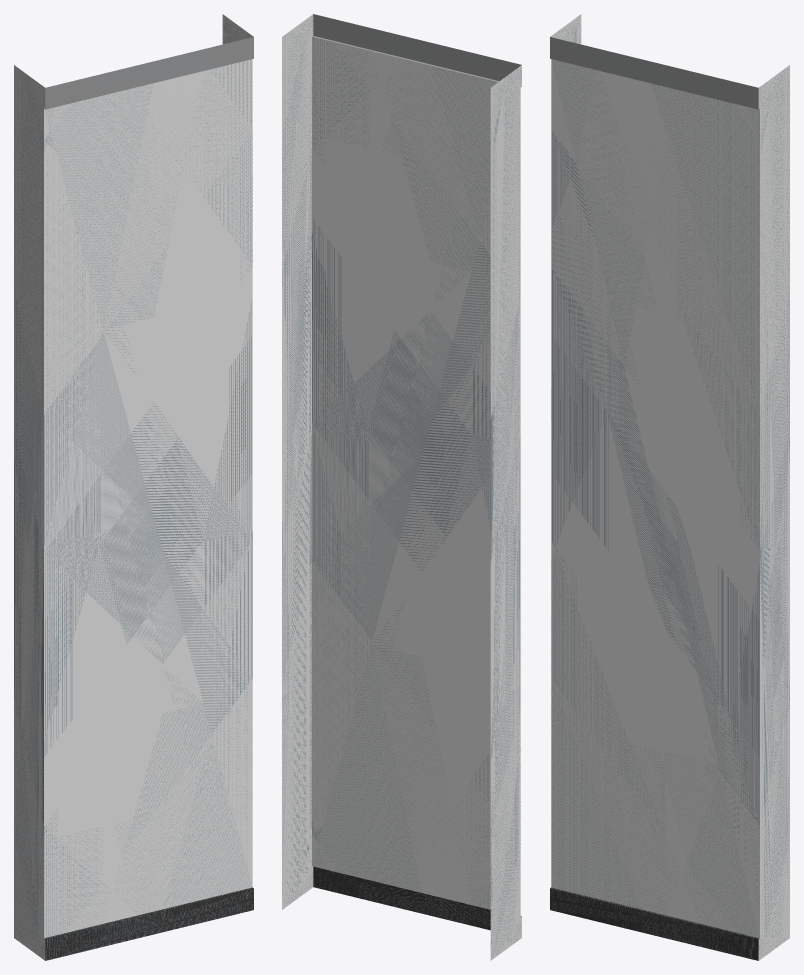
The model's file is BlockWall_os_plinth_1x4x025.dae.
3 views of the same model, side by side, from view 1: azimuth 30°, elevation 25°; view 2: azimuth 150°, elevation 25°; view 3: azimuth 330°, elevation 25° (orthographic).
Visible parts, largest first — view 1: group_0 (×3); view 2: group_0 (×3); view 3: group_0 (×3).
Part boxes in pixels (x1,y1,x2,y2): group_0 (×3): (14, 14, 253, 960); group_0 (×3): (282, 14, 521, 960); group_0 (×3): (550, 14, 789, 960).
Bounding box in the file's own units: 39.37 × 10.24 × 157.
